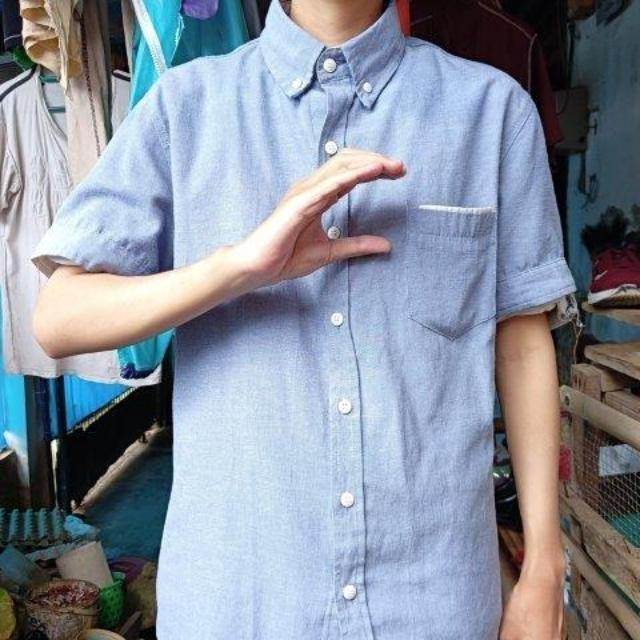C: (250, 139, 412, 282)
